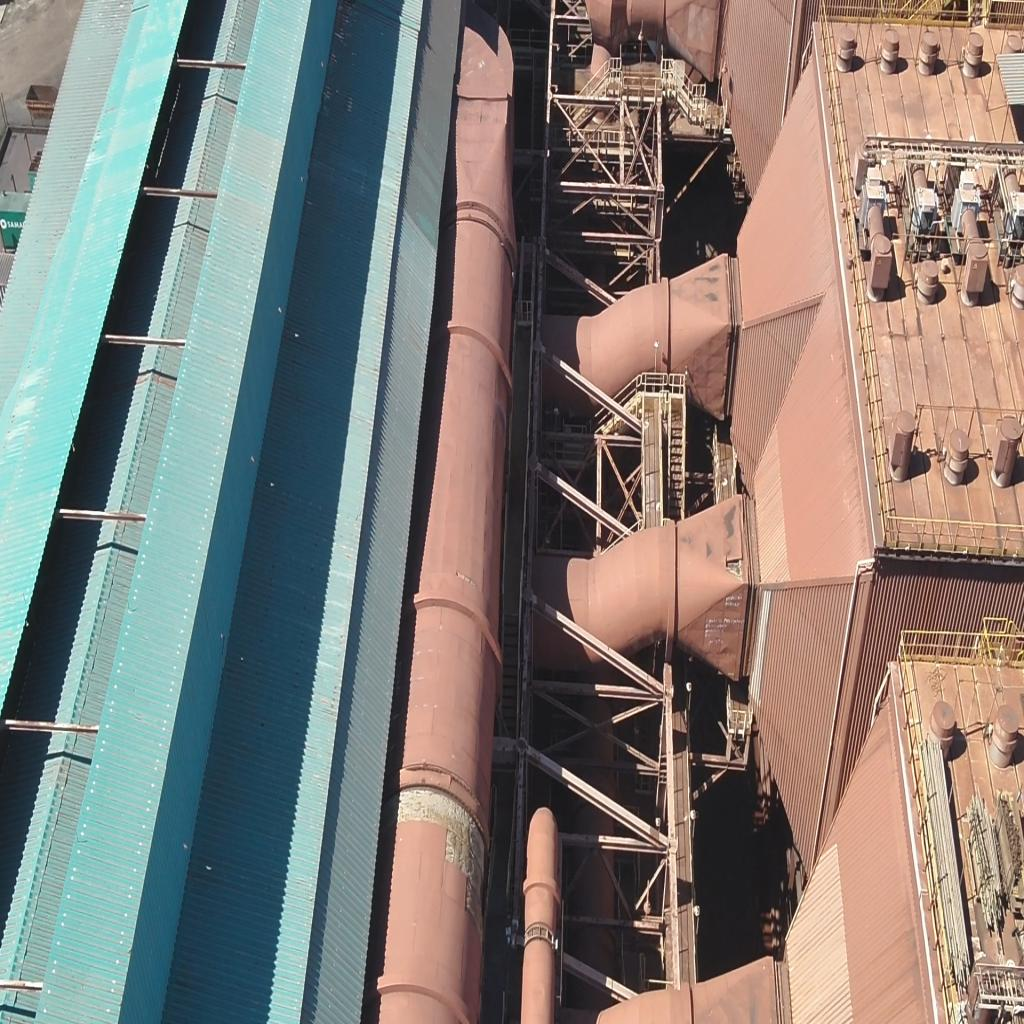Failures: (389, 766, 487, 920), (720, 552, 751, 584)
